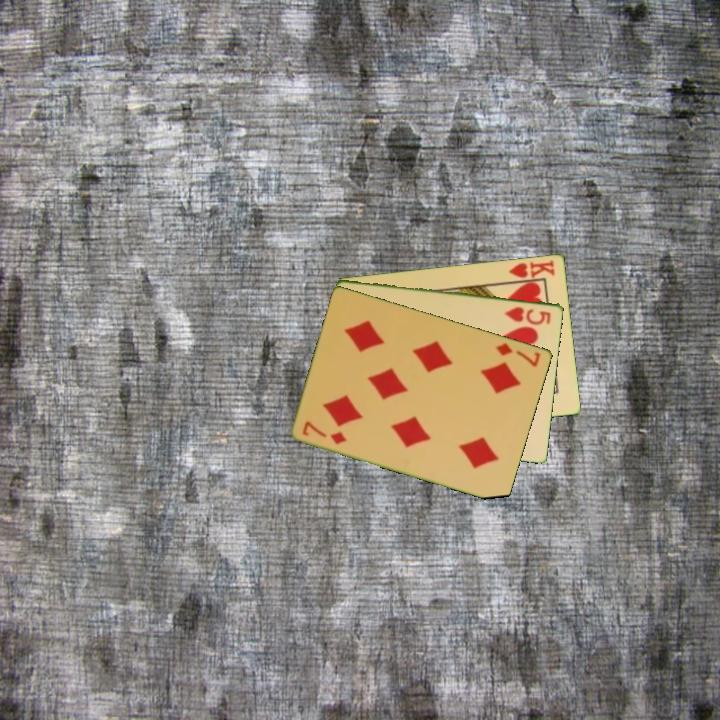5h: (502, 303, 554, 327)
7d: (299, 417, 350, 447), (493, 339, 543, 369)
Kh: (504, 256, 558, 285)
